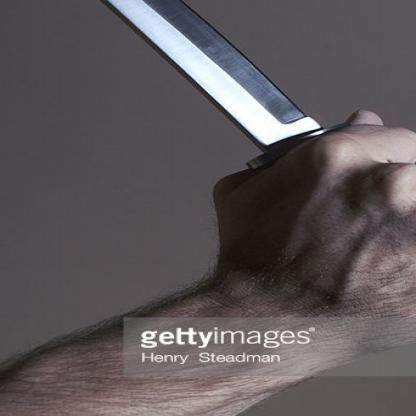knife: (0, 0, 415, 266)
